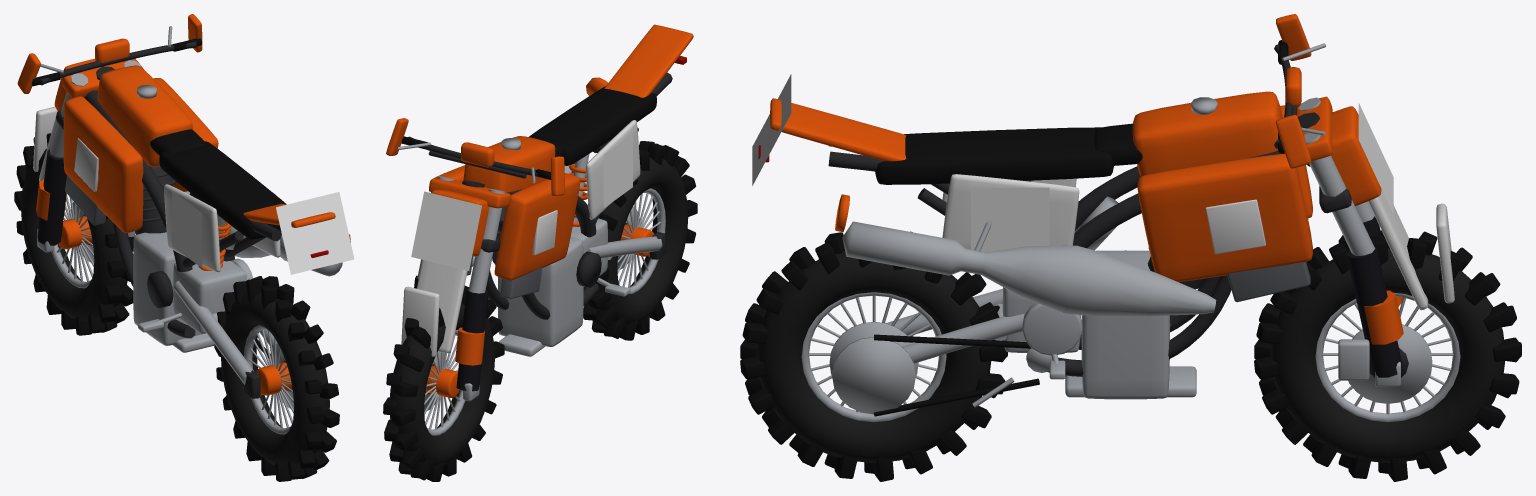
The model's file is bike.glb.
The picture shows the model from 3 angles, left to right: view 1: azimuth 30°, elevation 25°; view 2: azimuth 150°, elevation 25°; view 3: azimuth 270°, elevation 25°; orthographic projection. The views are drawn at different scales.
Visible parts, largest first — view 1: bike_body, rear_wheel, front_wheel, fork_upper, plate_rear, fork_lower, swingarm, plate_side_L; view 2: bike_body, front_wheel, rear_wheel, fork_lower, fork_upper, plate_front, plate_side_L, swingarm; view 3: bike_body, front_wheel, rear_wheel, fork_upper, swingarm, fork_lower, plate_side_R, plate_front, plate_rear.
Part boxes in pixels (x1,y1,x2,y2): bike_body: (63,65,350,352); rear_wheel: (214,276,339,481); front_wheel: (14,133,133,335); fork_upper: (17,14,202,157); plate_rear: (276,192,354,274); fork_lower: (33,106,135,252); swingarm: (173,281,277,398); plate_side_L: (172,191,202,267); bike_body: (431,24,693,356); front_wheel: (383,285,504,481); rear_wheel: (583,141,697,340); fork_lower: (401,260,488,401); fork_upper: (386,118,564,293); plate_front: (411,191,481,270); plate_side_L: (603,134,632,208); swingarm: (588,232,665,259); bike_body: (758,91,1319,407); front_wheel: (1254,230,1521,481); rear_wheel: (740,231,1007,481); fork_upper: (1274,14,1381,255); swingarm: (832,289,1052,416); fork_lower: (1338,189,1454,386); plate_side_R: (971,187,1049,252); plate_front: (1358,103,1393,214); plate_rear: (752,74,791,185).
Bounding box in the file's own units: 1.01 × 1.72 × 2.98.
